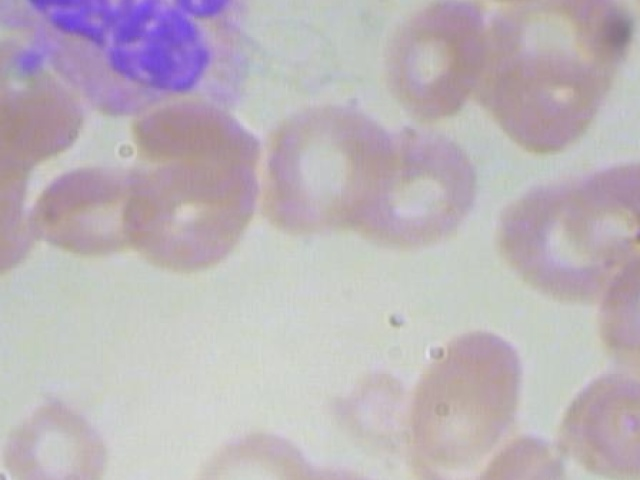Platelets: (343, 0, 428, 7)
RBC: (253, 97, 409, 237), (336, 122, 489, 253), (401, 323, 523, 464), (27, 152, 175, 261), (381, 0, 496, 118), (0, 390, 123, 480), (181, 421, 323, 480), (590, 244, 640, 375), (0, 179, 46, 288), (309, 458, 403, 480), (633, 0, 640, 34)
WBC: (0, 0, 268, 119)
